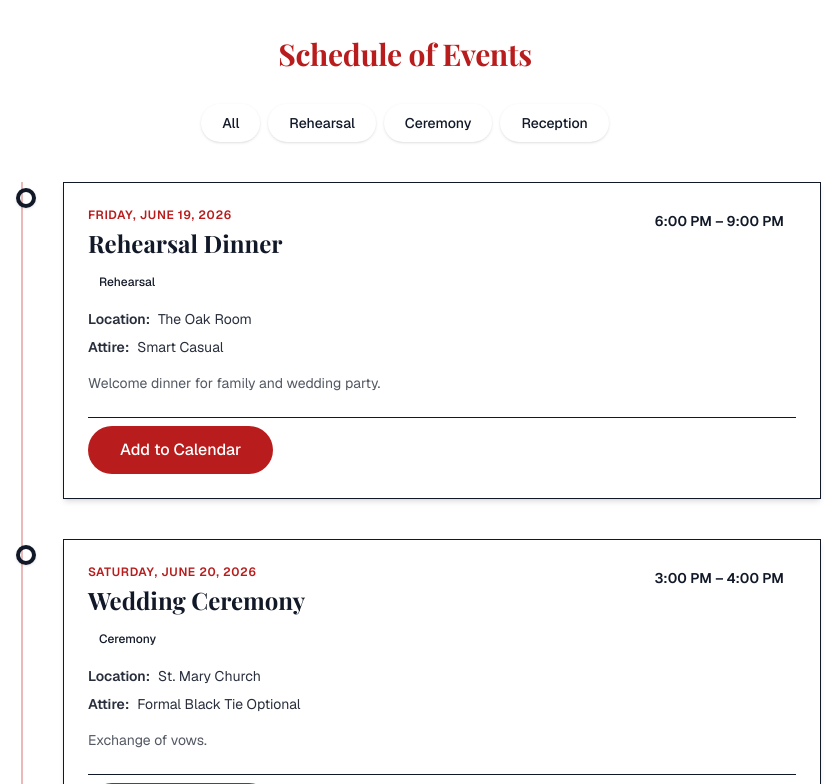
Test: InteractiveTimeline Component › filters events when category filter button is clicked
The width and height of the screenshot is (839, 784).
Note: Click Ceremony tab
Click the tab "Ceremony".
click(438, 123)  # box [384, 104, 492, 142]
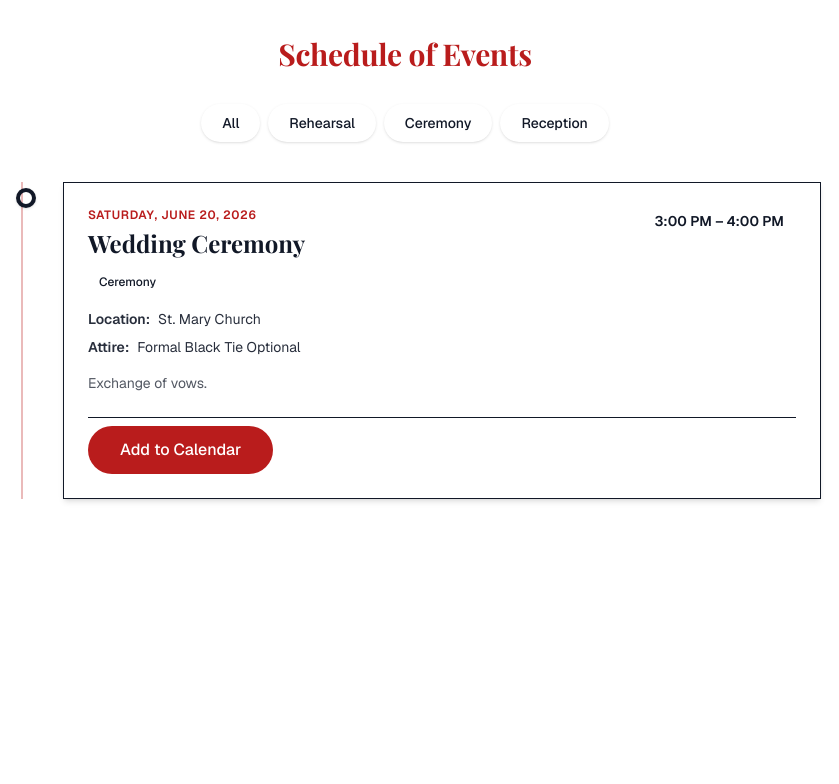
Check: the heading "Wedding Ceremony" is shown, box [88, 227, 305, 259]
Check: the heading "Rehearsal Dinner" is gone
Note: Click All tab
Click the tab "All".
click(231, 123)  # box [201, 104, 260, 142]
(page scrolled)
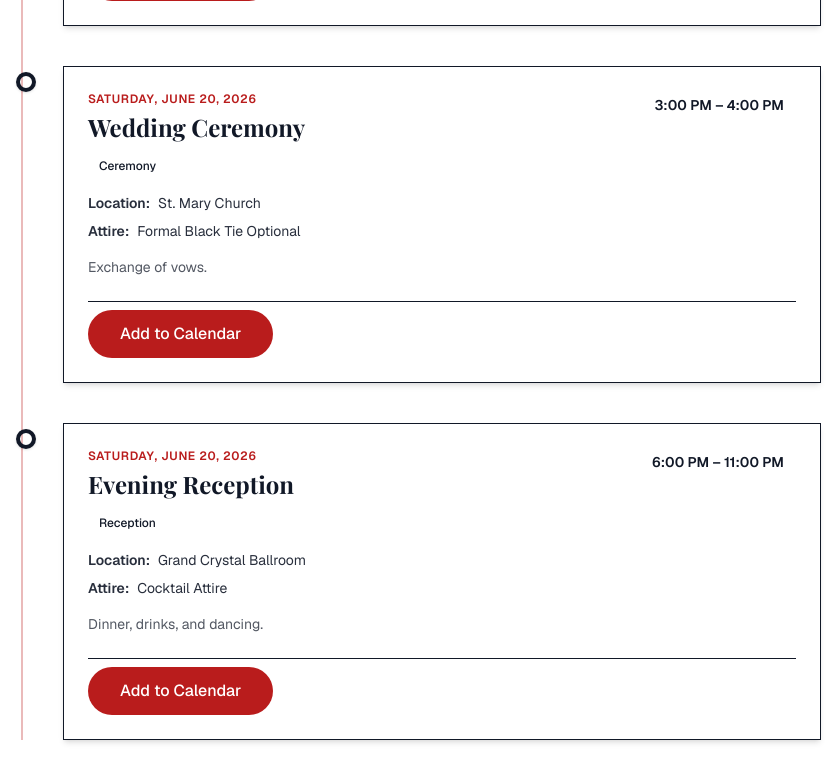
Check: the heading "Wedding Ceremony" is shown, box [88, 111, 305, 143]
Check: the heading "Evening Reception" is shown, box [88, 468, 294, 500]
